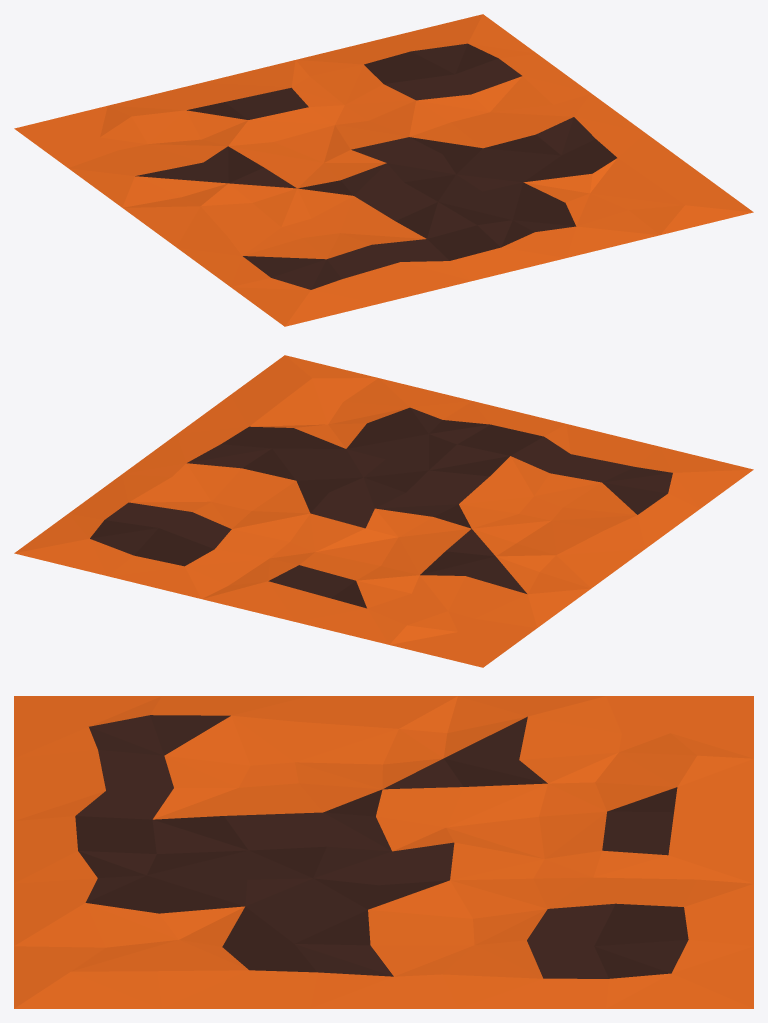
The model's file is ground_lava_a.obj.
3 renders of one model, top to bottom at view 1: azimuth 30°, elevation 25°; view 2: azimuth 150°, elevation 25°; view 3: azimuth 270°, elevation 25°, orthographic. The views are drawn at different scales.
Size of the model in its own units: 4 by 0.03 by 4.
